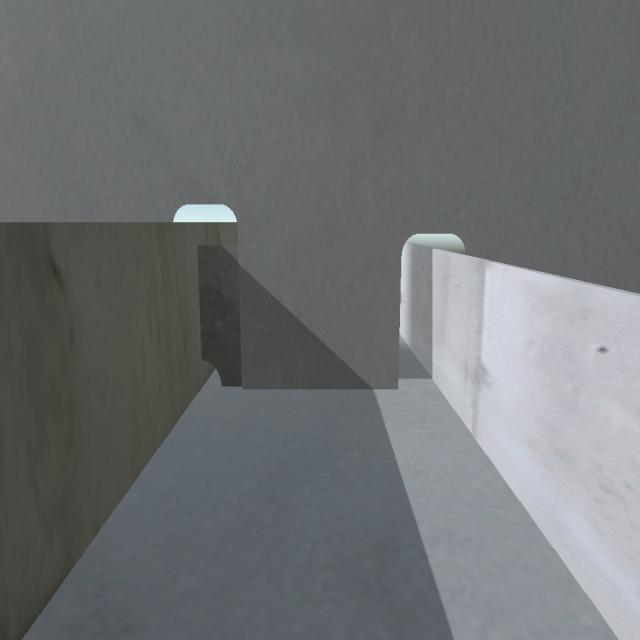fillet_hole: (200, 356, 223, 388)
fillet_yong_jeop_jang: (229, 381, 400, 394)
longi_yong_jeop_jang: (197, 250, 208, 355)
plate_behind: (201, 245, 239, 394)
